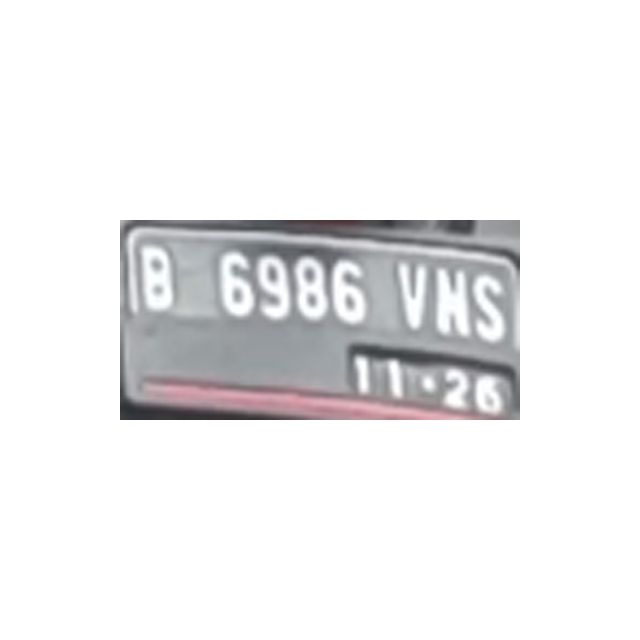contain: (136, 238, 182, 314), (210, 245, 256, 321), (255, 245, 292, 322), (292, 248, 329, 325), (333, 249, 370, 326), (392, 255, 429, 332), (435, 260, 472, 337), (469, 270, 506, 347)
